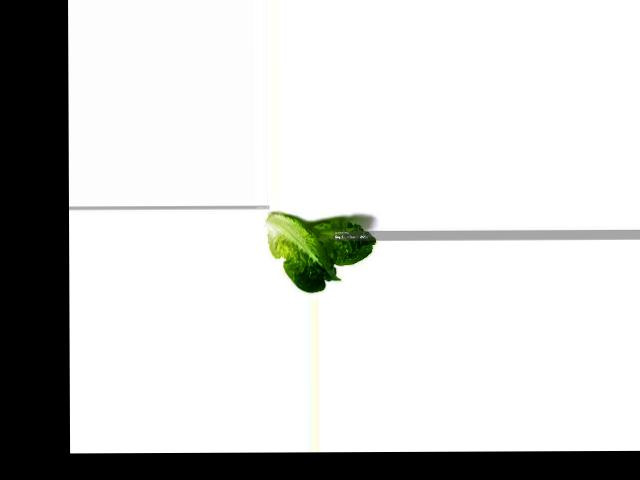lettuce: (263, 216, 379, 293)
